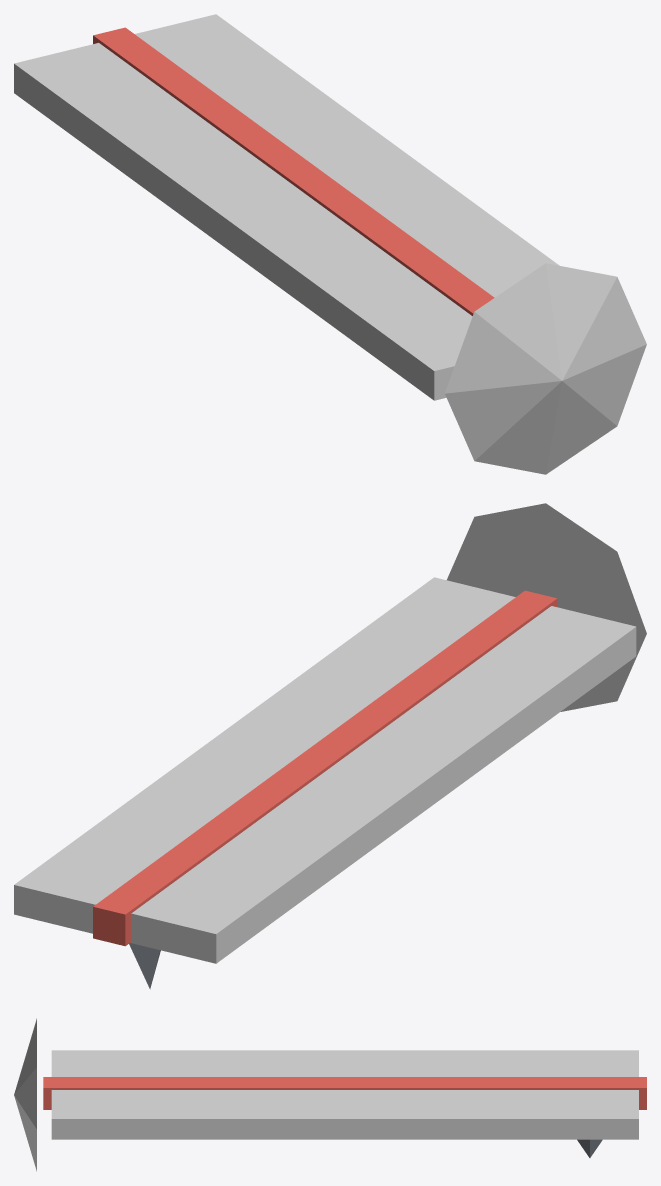
Rendered from Surfboard.fbx.
3 views of the same model, one above another, from view 1: azimuth 30°, elevation 25°; view 2: azimuth 150°, elevation 25°; view 3: azimuth 270°, elevation 25° (orthographic). The views are drawn at different scales.
Parts seen in each view (by area): view 1: Body; view 2: Body; view 3: Body.
Boxes of the visible parts, x1,y1,x2,y2 form: Body: (14,14,646,474); Body: (14,503,646,989); Body: (14,1018,646,1171).
Bounding box in the file's own units: 0.5 × 0.5 × 1.94.
